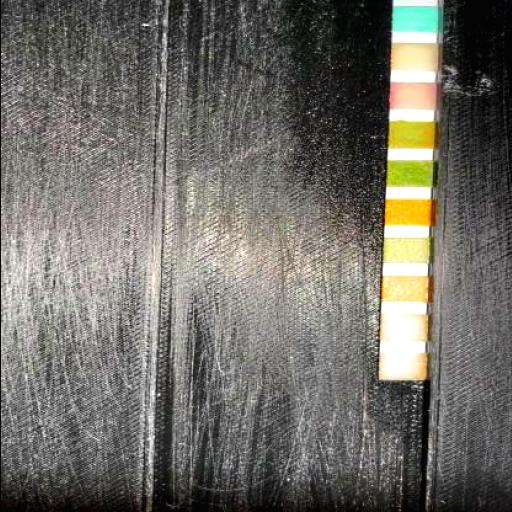Bilirubin: (391, 44, 436, 70)
Blood: (386, 162, 432, 186)
Glucose: (392, 6, 438, 30)
Ketone: (390, 83, 436, 109)
Leukocytes: (378, 354, 424, 380)
Nitrite: (380, 314, 427, 340)
Protein: (382, 237, 428, 263)
SpGravity: (388, 122, 434, 148)
Urobilinogen: (381, 276, 427, 302)
pH: (385, 200, 429, 226)
strip: (378, 1, 438, 381)
